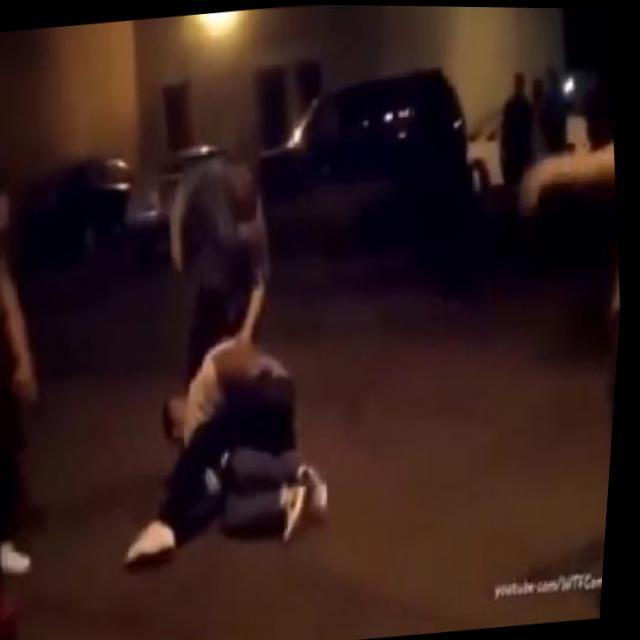fight: (101, 148, 348, 565)
